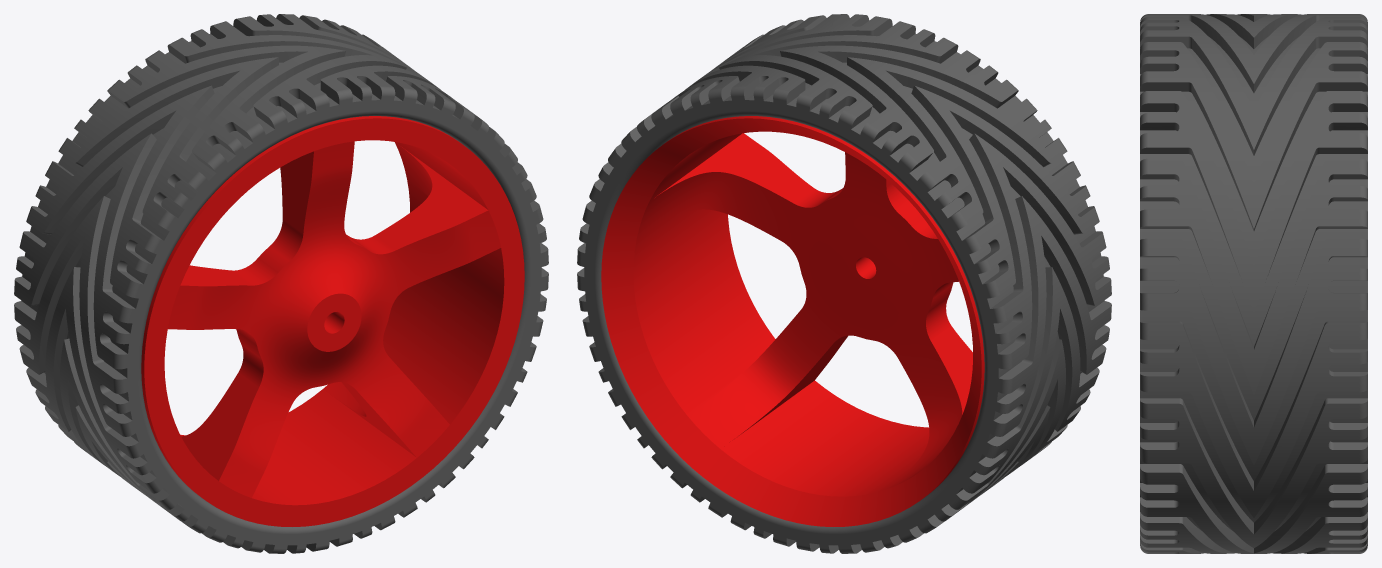
The model's file is assembly_wheel_R_front.dae.
3 renders of one model, left to right at view 1: azimuth 30°, elevation 25°; view 2: azimuth 150°, elevation 25°; view 3: azimuth 270°, elevation 25°, orthographic. The views are drawn at different scales.
Visible parts, largest first — view 1: assembly_wheel_R_front; view 2: assembly_wheel_R_front; view 3: assembly_wheel_R_front.
Part boxes in pixels (x1=…): assembly_wheel_R_front: x1=14, y1=14, x2=548, y2=553; assembly_wheel_R_front: x1=577, y1=14, x2=1111, y2=553; assembly_wheel_R_front: x1=1140, y1=14, x2=1367, y2=553.
Bounding box in the file's own units: 0.064 × 0.027 × 0.064.
